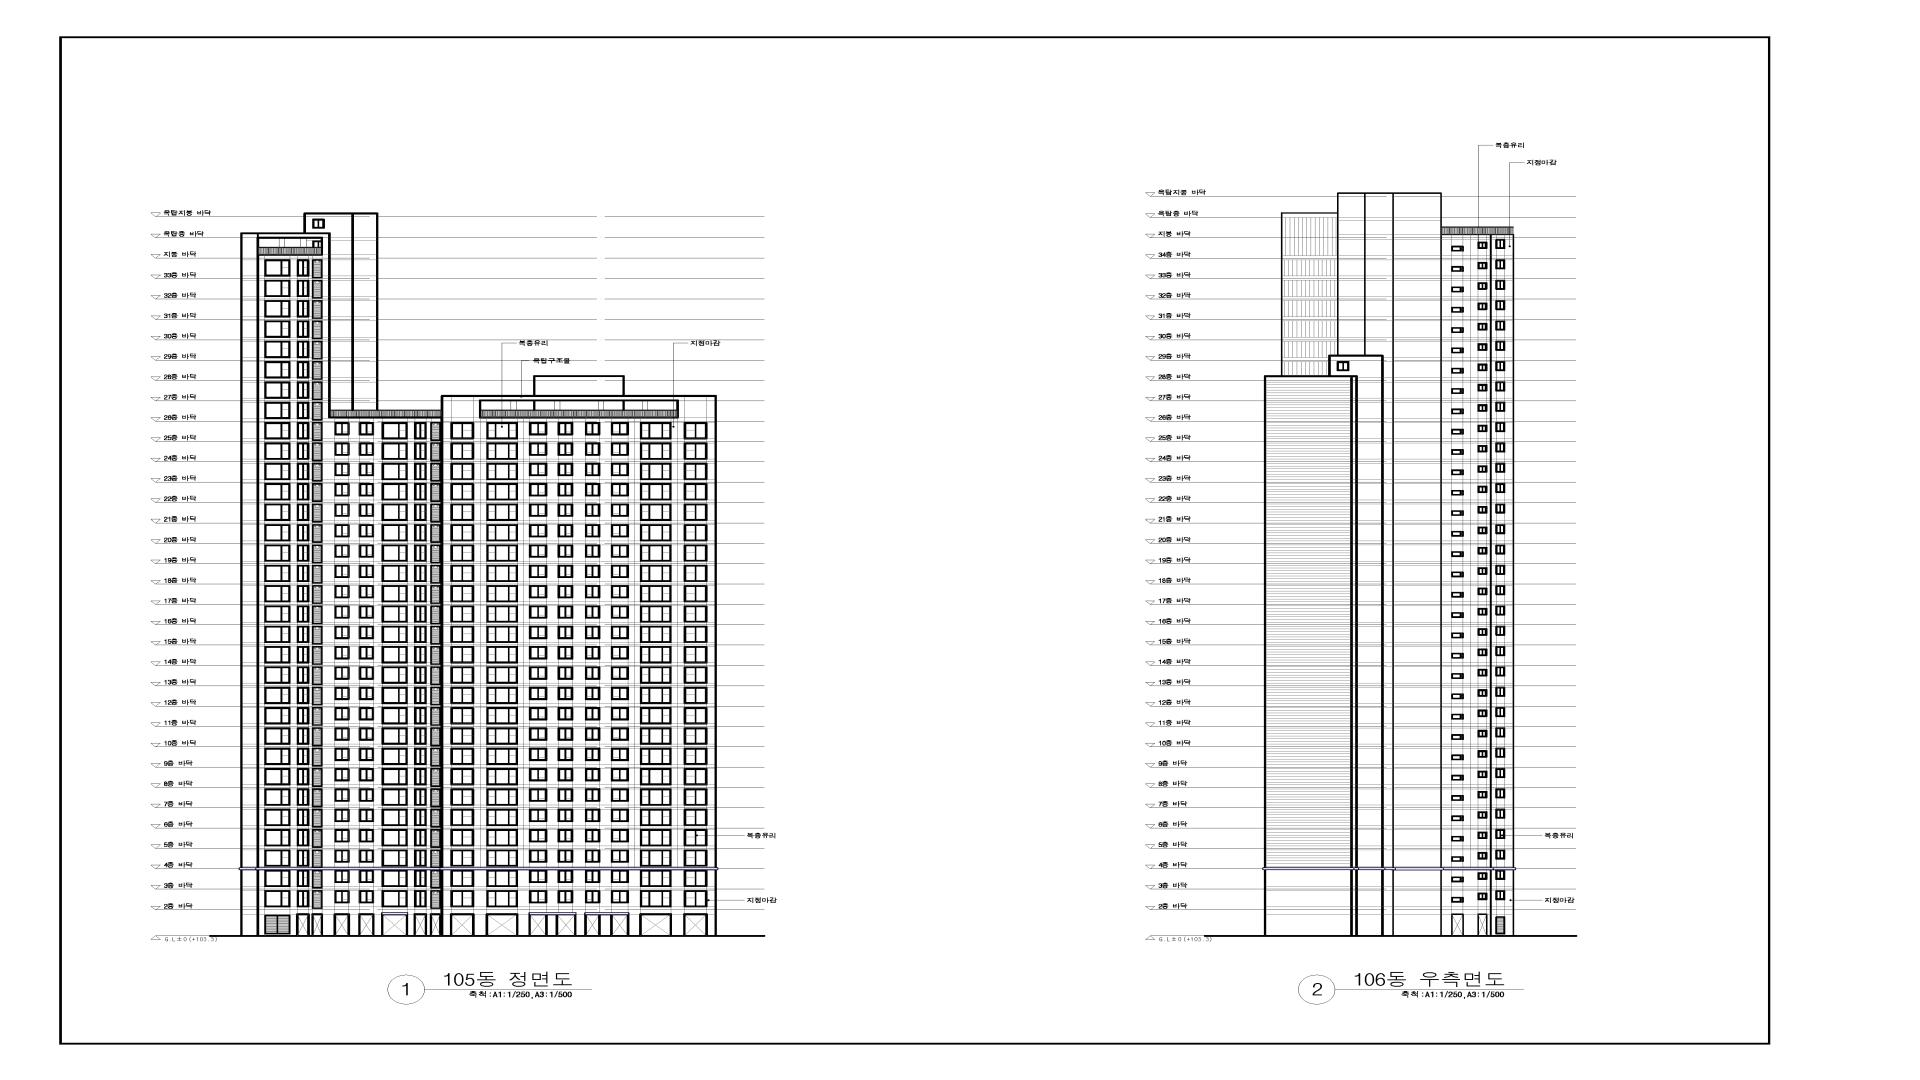door: (485, 913, 518, 935), (640, 913, 673, 935), (450, 913, 475, 935), (683, 914, 708, 935), (381, 915, 407, 935), (555, 914, 576, 935), (529, 914, 547, 935), (611, 915, 629, 935), (334, 914, 351, 935), (584, 915, 601, 935), (359, 914, 375, 935), (295, 914, 310, 935), (414, 913, 427, 935), (430, 913, 443, 935), (1451, 914, 1464, 936), (311, 914, 323, 935), (1477, 914, 1487, 936)
wall: (240, 212, 717, 938), (1263, 193, 1514, 936)
window: (534, 400, 624, 418), (256, 236, 323, 256), (624, 400, 679, 419), (479, 400, 534, 418), (487, 442, 518, 460), (487, 524, 518, 542), (487, 828, 518, 847), (640, 666, 671, 684), (640, 828, 671, 847), (487, 422, 518, 439), (487, 463, 518, 480), (487, 483, 518, 500), (487, 504, 518, 521), (487, 545, 518, 562), (487, 564, 518, 582), (487, 585, 518, 603), (487, 605, 518, 622), (487, 626, 518, 644), (487, 646, 518, 663), (487, 666, 518, 683), (487, 687, 518, 704), (487, 707, 518, 724), (487, 728, 518, 745), (487, 748, 518, 765), (487, 767, 518, 785), (487, 789, 518, 806), (487, 808, 518, 825), (487, 849, 518, 866), (487, 870, 518, 887), (487, 890, 518, 907), (640, 422, 671, 439), (640, 443, 671, 460), (640, 463, 671, 480), (640, 483, 671, 500), (640, 504, 671, 521), (640, 525, 671, 542), (640, 545, 671, 562), (640, 564, 671, 582), (640, 585, 671, 603), (640, 605, 671, 622), (640, 626, 671, 644), (640, 646, 671, 663), (640, 687, 671, 704), (640, 707, 671, 724), (640, 728, 671, 745), (640, 748, 671, 765), (640, 767, 671, 785), (640, 789, 671, 806), (640, 808, 671, 825), (640, 849, 671, 866), (640, 870, 671, 887), (640, 890, 671, 907), (264, 915, 290, 935), (264, 666, 290, 684), (264, 340, 290, 359), (264, 442, 290, 460), (264, 483, 290, 501), (264, 524, 290, 542), (264, 605, 291, 622), (450, 442, 475, 460), (450, 483, 475, 501), (450, 524, 475, 542), (450, 564, 475, 583), (450, 625, 475, 644), (450, 666, 475, 684), (450, 767, 475, 786), (450, 808, 475, 827), (450, 849, 475, 868), (450, 869, 475, 887), (683, 442, 708, 460), (683, 483, 708, 501), (683, 524, 708, 542), (683, 625, 708, 644), (683, 666, 708, 684), (381, 890, 407, 907), (264, 687, 290, 704), (264, 707, 290, 724), (264, 728, 290, 745), (264, 748, 290, 765), (264, 769, 290, 786), (264, 789, 290, 806), (264, 808, 290, 825), (264, 829, 290, 847), (264, 849, 290, 866), (264, 870, 290, 887), (264, 890, 290, 907), (381, 422, 407, 439), (381, 442, 407, 459), (381, 463, 407, 480), (381, 483, 407, 500), (381, 504, 407, 521), (381, 524, 407, 541), (381, 545, 407, 562), (381, 564, 407, 582), (381, 585, 407, 603), (381, 605, 407, 622), (381, 626, 407, 644), (381, 646, 407, 663), (381, 666, 407, 683), (381, 687, 407, 704), (381, 707, 407, 724), (381, 728, 407, 745), (381, 748, 407, 765), (381, 767, 407, 785), (381, 789, 407, 806), (381, 808, 407, 825), (381, 829, 407, 847), (381, 849, 407, 866), (381, 870, 407, 887), (264, 260, 290, 277), (264, 280, 290, 297), (264, 301, 290, 318), (264, 320, 290, 338), (264, 361, 290, 378), (264, 381, 290, 398), (264, 402, 290, 419), (264, 422, 290, 439), (264, 463, 290, 480), (264, 504, 290, 521), (264, 545, 290, 562), (264, 564, 290, 582), (264, 585, 290, 603), (264, 626, 290, 644), (264, 646, 290, 663), (450, 422, 475, 439), (450, 463, 475, 480), (450, 504, 475, 521), (450, 545, 475, 562), (450, 585, 475, 603), (450, 605, 475, 622), (450, 646, 475, 663), (450, 707, 475, 724), (450, 728, 475, 745), (450, 748, 475, 765), (450, 789, 475, 806), (450, 829, 475, 847), (450, 890, 475, 907), (683, 422, 708, 439), (683, 463, 708, 480), (683, 504, 708, 521), (683, 545, 708, 562), (683, 564, 708, 582), (683, 585, 708, 603), (683, 605, 708, 622), (683, 646, 708, 663), (683, 687, 708, 704), (683, 707, 708, 724), (683, 728, 708, 745), (683, 748, 708, 765), (683, 769, 708, 786), (683, 789, 708, 806), (683, 808, 708, 825), (683, 829, 708, 847), (683, 849, 708, 866), (683, 870, 708, 887), (683, 890, 708, 907), (451, 687, 475, 704), (611, 524, 629, 538), (611, 666, 629, 680), (529, 483, 547, 497), (529, 564, 547, 579), (430, 422, 443, 442), (430, 442, 443, 462), (430, 483, 443, 502), (430, 524, 443, 543), (430, 564, 443, 584), (430, 625, 443, 645), (430, 666, 443, 686), (430, 767, 443, 787), (430, 463, 443, 481), (430, 504, 443, 522), (430, 545, 443, 563), (430, 585, 443, 604), (430, 605, 443, 624), (611, 483, 629, 496), (611, 504, 629, 517), (611, 545, 629, 558), (611, 564, 629, 578), (611, 585, 629, 599), (611, 605, 629, 618), (611, 626, 629, 640), (611, 646, 629, 659), (611, 687, 629, 700), (611, 748, 629, 761), (611, 767, 629, 781), (611, 789, 629, 802), (611, 808, 629, 822), (611, 829, 629, 843), (611, 849, 629, 862), (611, 869, 629, 882), (611, 890, 629, 903), (430, 646, 443, 665), (430, 687, 443, 705), (430, 707, 443, 725), (430, 728, 443, 746), (430, 748, 443, 766), (430, 789, 443, 807), (430, 808, 443, 827), (430, 829, 443, 848), (430, 870, 443, 889), (430, 890, 443, 909), (430, 849, 443, 868), (297, 258, 310, 277), (297, 340, 310, 359), (297, 524, 310, 542), (529, 443, 547, 456), (529, 463, 547, 476), (529, 504, 547, 517), (529, 525, 547, 538), (529, 545, 547, 558), (529, 585, 547, 599), (529, 605, 547, 618), (529, 626, 547, 640), (529, 646, 547, 659), (529, 667, 547, 680), (529, 687, 547, 700), (529, 707, 547, 720), (297, 869, 310, 887), (414, 524, 427, 542), (611, 422, 629, 435), (529, 422, 547, 435), (611, 443, 629, 456), (529, 728, 547, 741), (529, 748, 547, 761), (529, 767, 547, 781), (529, 789, 547, 802), (529, 808, 547, 822), (529, 829, 547, 843), (529, 849, 547, 862), (529, 870, 547, 884), (529, 890, 547, 903), (311, 381, 323, 401), (311, 483, 323, 502), (359, 524, 375, 538), (334, 483, 349, 497), (584, 767, 600, 782), (558, 727, 574, 741), (612, 707, 629, 720), (612, 728, 629, 741), (297, 280, 310, 297), (297, 301, 310, 318), (297, 320, 310, 338), (297, 361, 310, 378), (297, 381, 310, 398), (297, 402, 310, 419), (297, 422, 310, 439), (297, 443, 310, 460), (297, 463, 310, 480), (297, 483, 310, 500), (297, 504, 310, 521), (297, 545, 310, 562), (297, 564, 310, 582), (297, 585, 310, 603), (297, 605, 310, 622), (297, 626, 310, 644), (297, 646, 310, 663), (297, 666, 310, 683), (297, 687, 310, 704), (297, 707, 310, 724), (297, 728, 310, 745), (297, 748, 310, 765), (297, 767, 310, 785), (297, 789, 310, 806), (297, 808, 310, 825), (297, 829, 310, 847), (297, 849, 310, 866), (297, 890, 310, 907), (414, 422, 427, 439), (414, 443, 427, 460), (414, 463, 427, 480), (414, 483, 427, 500), (414, 504, 427, 521), (414, 545, 427, 562), (414, 585, 427, 603), (414, 605, 427, 622), (414, 626, 427, 644), (414, 646, 427, 663), (414, 666, 427, 683), (414, 687, 427, 704), (414, 728, 427, 745), (414, 748, 427, 765), (414, 769, 427, 786), (414, 808, 427, 825), (414, 829, 427, 847), (414, 849, 427, 866), (414, 870, 427, 887), (612, 463, 629, 476), (311, 301, 323, 319), (311, 320, 323, 339), (311, 361, 323, 380), (311, 422, 323, 440), (311, 443, 323, 462), (311, 463, 323, 481), (311, 646, 323, 665), (311, 728, 323, 746), (311, 829, 323, 848), (311, 870, 323, 889), (311, 890, 323, 909), (585, 483, 600, 497), (585, 524, 600, 538), (585, 625, 600, 640), (585, 666, 600, 680), (335, 442, 349, 456), (585, 869, 600, 884), (584, 463, 600, 476), (313, 340, 323, 360), (313, 564, 323, 584), (313, 666, 323, 686), (359, 422, 375, 435), (334, 422, 349, 435), (359, 443, 375, 456), (359, 463, 375, 476), (359, 483, 375, 496), (359, 504, 375, 517), (359, 545, 375, 558), (359, 564, 375, 578), (334, 545, 349, 558), (334, 564, 349, 578), (359, 605, 375, 618), (558, 443, 574, 456), (558, 463, 574, 476), (558, 483, 574, 496), (558, 504, 574, 517), (558, 525, 574, 538), (558, 545, 574, 558), (558, 564, 574, 578), (558, 585, 574, 599), (558, 605, 574, 618), (558, 626, 574, 640), (313, 767, 323, 787), (313, 808, 323, 828), (334, 605, 349, 618), (334, 625, 349, 638), (359, 646, 375, 659), (359, 666, 375, 679), (359, 687, 375, 700), (359, 728, 375, 741), (359, 789, 375, 802), (334, 687, 349, 700), (334, 748, 349, 761), (359, 808, 375, 822), (359, 829, 375, 843), (359, 849, 375, 862), (359, 870, 375, 884), (334, 808, 349, 822), (334, 870, 349, 884), (558, 422, 574, 435), (558, 646, 574, 659), (558, 667, 574, 680), (558, 687, 574, 700), (558, 707, 574, 720), (558, 748, 574, 761), (558, 769, 574, 782), (558, 789, 574, 802), (558, 808, 574, 822), (558, 829, 574, 843), (558, 849, 574, 862), (558, 870, 574, 884), (558, 890, 574, 903), (414, 890, 426, 907), (414, 564, 426, 582), (414, 707, 426, 724), (414, 789, 426, 806), (313, 260, 323, 278), (313, 280, 323, 298), (313, 402, 323, 421), (313, 504, 323, 522), (313, 525, 323, 543), (313, 545, 323, 563), (313, 585, 323, 604), (313, 605, 323, 624), (313, 626, 323, 645), (313, 687, 323, 705), (313, 707, 323, 725), (313, 748, 323, 766), (313, 789, 323, 807), (313, 849, 323, 868), (585, 442, 600, 455), (585, 504, 600, 517), (585, 545, 600, 558), (585, 564, 600, 578), (585, 585, 600, 599), (585, 605, 600, 618), (585, 646, 600, 659), (585, 687, 600, 700), (335, 463, 349, 476), (359, 585, 373, 599), (335, 504, 349, 517), (335, 525, 349, 538), (335, 585, 349, 599), (585, 707, 600, 720), (585, 728, 600, 741), (585, 748, 600, 761), (585, 789, 600, 802), (585, 808, 600, 822), (585, 829, 600, 843), (585, 849, 600, 862), (585, 890, 600, 903), (335, 646, 349, 659), (335, 666, 349, 679), (359, 626, 373, 640), (359, 707, 373, 720), (359, 748, 373, 761), (335, 707, 349, 720), (335, 728, 349, 741), (335, 769, 349, 782), (335, 789, 349, 802), (359, 890, 373, 903), (335, 828, 349, 841), (335, 849, 349, 862), (335, 890, 349, 903), (585, 422, 600, 435), (359, 769, 375, 781), (1495, 916, 1505, 935), (313, 219, 326, 228), (1495, 890, 1506, 901), (1495, 849, 1506, 860), (1495, 767, 1506, 778), (1495, 748, 1506, 758), (1495, 707, 1506, 717), (1495, 646, 1506, 657), (1495, 545, 1506, 555), (1495, 524, 1506, 534), (1495, 504, 1506, 514), (1495, 483, 1506, 493), (1495, 463, 1506, 473), (1495, 340, 1506, 351), (1495, 299, 1506, 310), (1337, 361, 1349, 371), (1495, 870, 1506, 880), (1495, 808, 1505, 819), (1495, 727, 1505, 737), (1495, 687, 1505, 698), (1495, 666, 1505, 676), (1495, 625, 1505, 636), (1495, 605, 1505, 616), (1495, 585, 1506, 595), (1495, 564, 1505, 575), (1495, 442, 1505, 452), (1495, 422, 1505, 433), (1495, 381, 1505, 392), (1495, 361, 1505, 372), (1495, 320, 1505, 331), (1495, 280, 1505, 290), (1495, 239, 1505, 249), (1451, 897, 1464, 903), (1451, 856, 1464, 862), (1451, 815, 1464, 822), (1451, 713, 1464, 720), (1451, 612, 1464, 618), (1451, 571, 1464, 578), (1451, 489, 1464, 496), (1451, 429, 1464, 435), (1451, 388, 1464, 394), (1451, 327, 1464, 334), (1451, 286, 1464, 293), (1451, 245, 1464, 252), (1495, 829, 1505, 839), (1495, 789, 1505, 798), (1495, 402, 1505, 411), (1495, 260, 1505, 269), (1477, 893, 1487, 901), (1477, 872, 1487, 880), (1477, 852, 1487, 860), (1477, 811, 1487, 819), (1477, 770, 1487, 778), (1477, 750, 1487, 758), (1477, 729, 1487, 737), (1477, 709, 1487, 717), (1477, 669, 1487, 676), (1477, 649, 1487, 657), (1477, 628, 1487, 636), (1477, 608, 1487, 616), (1477, 567, 1487, 575), (1477, 547, 1487, 555), (1477, 526, 1487, 534), (1477, 485, 1487, 493), (1477, 465, 1487, 473), (1477, 444, 1487, 452), (1477, 425, 1487, 433), (1477, 384, 1487, 392), (1477, 343, 1487, 351), (1477, 323, 1487, 331), (1477, 302, 1487, 310), (1477, 282, 1487, 290), (1477, 241, 1487, 249), (1452, 774, 1464, 781), (1477, 832, 1487, 839), (1477, 791, 1487, 798), (1477, 690, 1487, 696), (1477, 588, 1487, 595), (1477, 506, 1487, 513), (1477, 405, 1487, 411), (1477, 364, 1487, 371), (1477, 262, 1487, 269), (1451, 877, 1464, 882), (1451, 836, 1464, 841), (1451, 795, 1464, 800), (1451, 754, 1464, 760), (1451, 735, 1464, 740), (1451, 694, 1464, 699), (1451, 674, 1464, 679), (1451, 653, 1464, 658), (1451, 633, 1464, 638), (1451, 592, 1464, 597), (1451, 551, 1464, 556), (1451, 531, 1464, 537), (1451, 510, 1464, 516), (1451, 469, 1464, 475), (1451, 450, 1464, 455), (1451, 409, 1464, 414), (1451, 368, 1464, 373), (1451, 348, 1464, 353), (1451, 307, 1464, 313), (1451, 266, 1464, 272)
